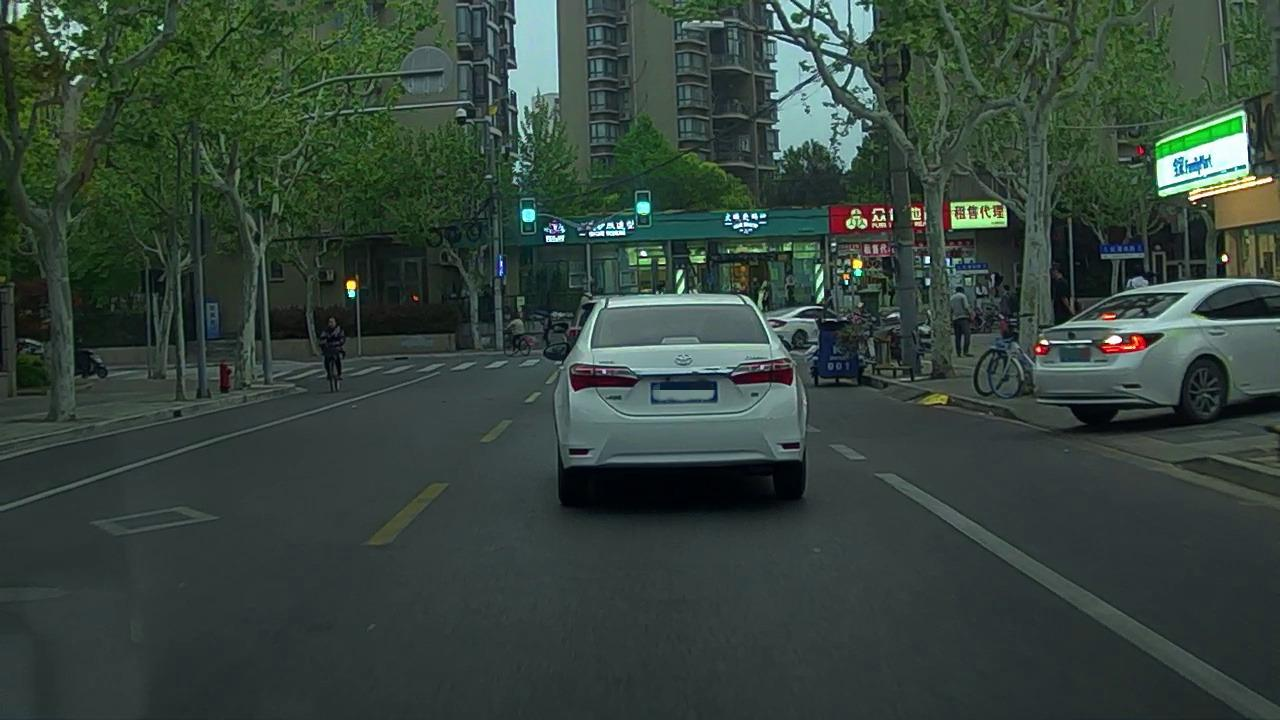traffic_light: (521, 198, 536, 233), (637, 191, 651, 227)
